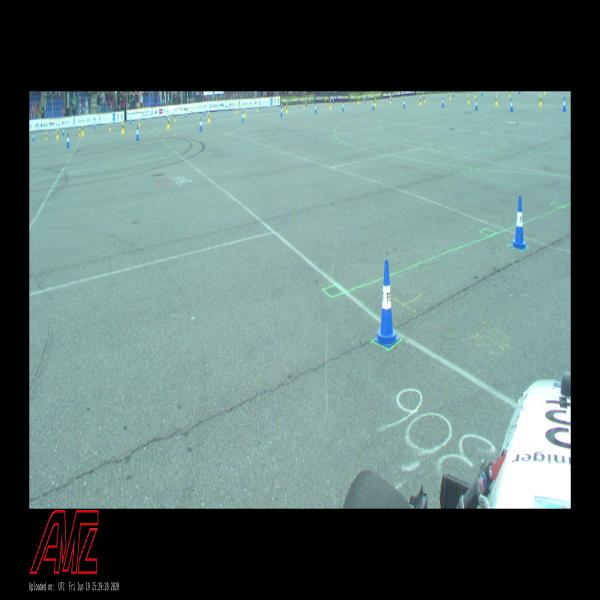blue_cone: (374, 260, 399, 348), (512, 196, 528, 250), (66, 132, 70, 148), (199, 117, 203, 132), (562, 97, 566, 112), (136, 125, 140, 140), (510, 98, 514, 112), (241, 111, 244, 123), (403, 98, 406, 109), (475, 99, 478, 110), (32, 131, 35, 142), (280, 107, 283, 117), (62, 127, 65, 136), (342, 101, 344, 112), (442, 97, 444, 108), (93, 122, 96, 129), (452, 91, 455, 98), (315, 104, 317, 114), (372, 100, 374, 110), (306, 99, 308, 107), (185, 110, 187, 118), (55, 131, 57, 139), (166, 112, 168, 120), (130, 117, 132, 124), (226, 106, 228, 112), (481, 92, 483, 97), (364, 96, 365, 103), (204, 109, 205, 115)
yellow_cone: (121, 122, 125, 134), (539, 94, 542, 106), (167, 117, 170, 129), (419, 95, 422, 106), (495, 94, 498, 105), (243, 107, 246, 117), (467, 94, 470, 104), (329, 100, 332, 110), (303, 100, 306, 109), (45, 131, 48, 140), (374, 98, 377, 107), (82, 124, 84, 136), (208, 111, 210, 122), (57, 128, 59, 139), (286, 103, 288, 113), (109, 123, 111, 132), (174, 115, 177, 121), (282, 102, 284, 111), (139, 118, 141, 126), (424, 94, 426, 102), (390, 96, 392, 104), (358, 96, 360, 104), (449, 92, 451, 100), (79, 128, 81, 136), (509, 91, 511, 98), (257, 105, 259, 112), (325, 99, 327, 106), (474, 92, 476, 98), (236, 108, 238, 114)
